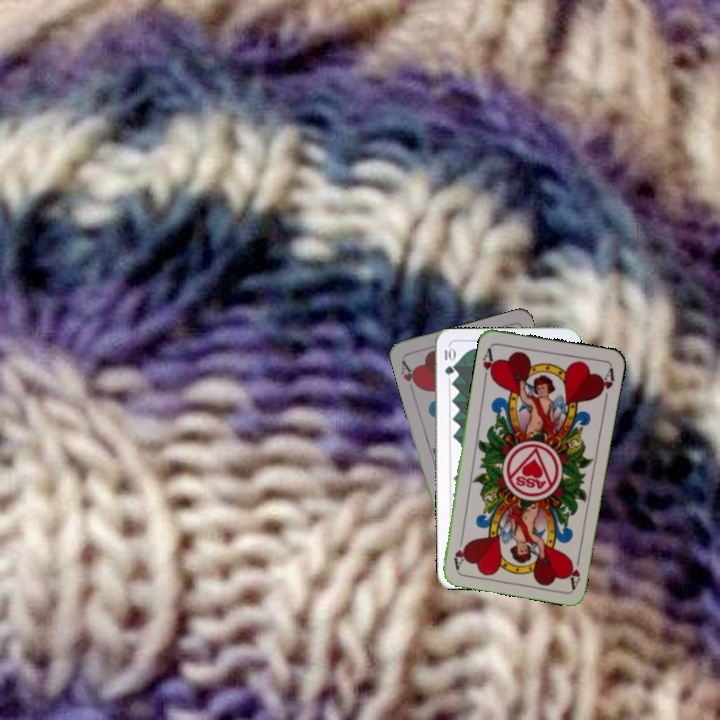G10: (440, 343, 456, 377)
HA: (397, 356, 422, 395), (479, 344, 498, 384), (564, 550, 583, 590)
